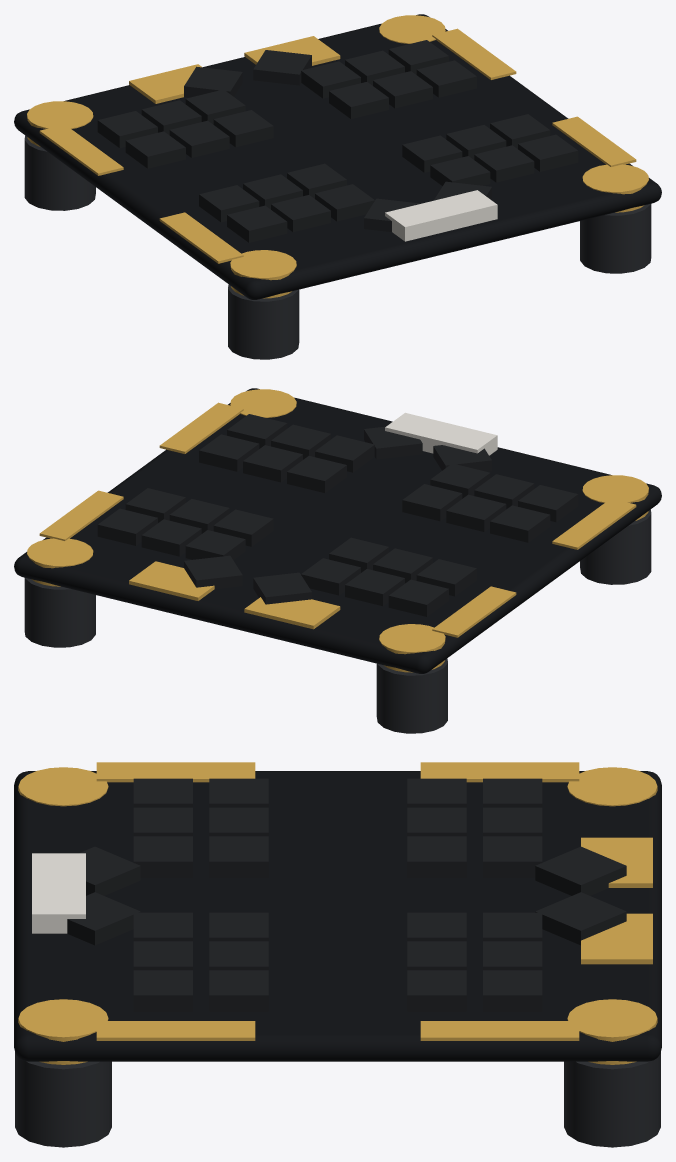
File: esc.glb
The picture shows the model from 3 angles, top to bottom: view 1: azimuth 30°, elevation 25°; view 2: azimuth 150°, elevation 25°; view 3: azimuth 270°, elevation 25°; orthographic projection. The views are drawn at different scales.
Visible parts, largest first — view 1: PCB, MOSFET (×24), Soft-mount grommet (×3), Motor pad (×11), Mount pad (×4), ESC MCU (×4), FC connector, Battery pad (×2); view 2: PCB, MOSFET (×24), Soft-mount grommet (×3), Motor pad (×11), Mount pad (×4), ESC MCU (×4), Battery pad (×2), FC connector; view 3: PCB, MOSFET (×24), Soft-mount grommet (×2), Motor pad (×12), Mount pad (×4), ESC MCU (×4), Battery pad (×2), FC connector.
Part boxes in pixels (left/top/right/bottom): PCB: left=14, top=14, right=661, bottom=299; MOSFET (×24): left=97, top=40, right=578, bottom=242; Soft-mount grommet (×3): left=24, top=135, right=651, bottom=359; Motor pad (×11): left=39, top=28, right=636, bottom=263; Mount pad (×4): left=27, top=15, right=648, bottom=298; ESC MCU (×4): left=184, top=50, right=491, bottom=231; FC connector: left=385, top=190, right=497, bottom=241; Battery pad (×2): left=129, top=36, right=340, bottom=103; PCB: left=14, top=388, right=661, bottom=673; MOSFET (×24): left=97, top=414, right=578, bottom=616; Soft-mount grommet (×3): left=24, top=509, right=651, bottom=733; Motor pad (×11): left=39, top=402, right=636, bottom=637; Mount pad (×4): left=27, top=389, right=648, bottom=672; ESC MCU (×4): left=184, top=426, right=491, bottom=604; Battery pad (×2): left=129, top=561, right=340, bottom=629; FC connector: left=385, top=412, right=497, bottom=455; PCB: left=14, top=771, right=661, bottom=1061; MOSFET (×24): left=133, top=778, right=542, bottom=1011; Soft-mount grommet (×2): left=15, top=1052, right=660, bottom=1147; Motor pad (×12): left=96, top=762, right=579, bottom=1040; Mount pad (×4): left=18, top=767, right=657, bottom=1064; ESC MCU (×4): left=67, top=846, right=626, bottom=945; Battery pad (×2): left=581, top=837, right=652, bottom=964; FC connector: left=32, top=853, right=85, bottom=933.
Bounding box in the file's own units: 0.0362 × 0.0078 × 0.036.
